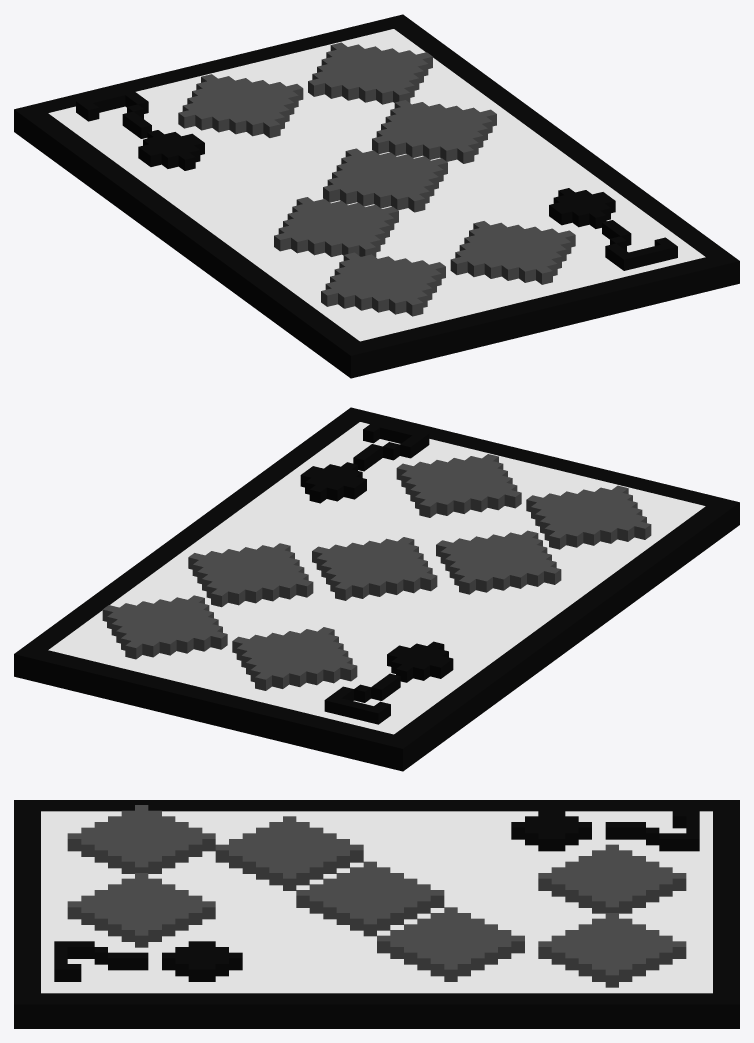
Rendered from Dia7.obj.
3 views of the same model, one above another, from view 1: azimuth 30°, elevation 25°; view 2: azimuth 150°, elevation 25°; view 3: azimuth 270°, elevation 25° (orthographic). The views are drawn at different scales.
Size of the model in its own units: 36 by 3 by 54.
Materials: 1 (1 with a texture image).
